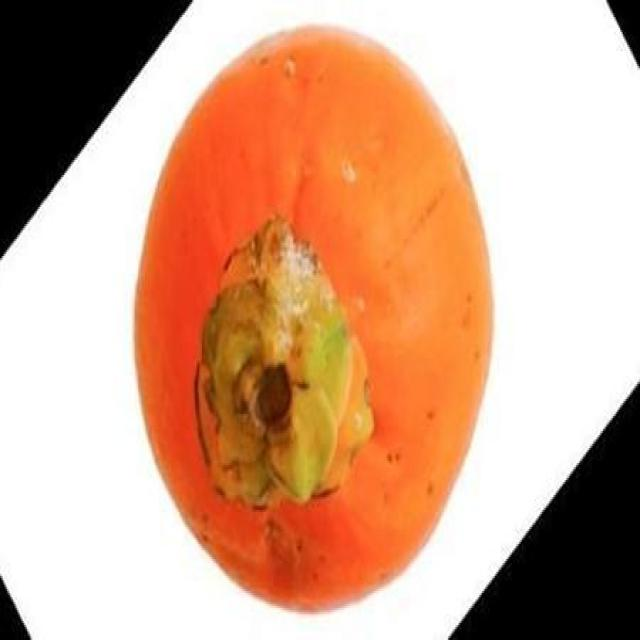good: (128, 23, 498, 617)
